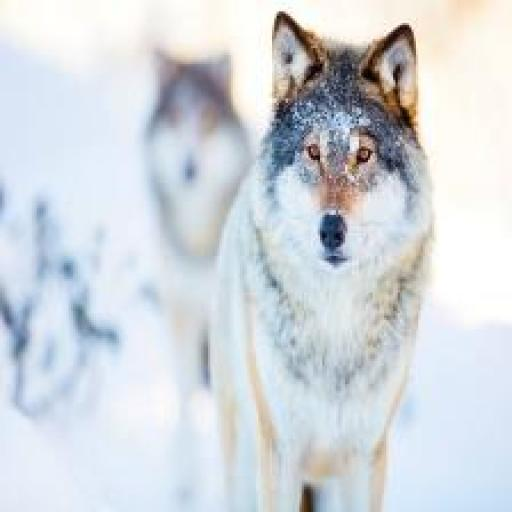wolf: (208, 7, 448, 512)
